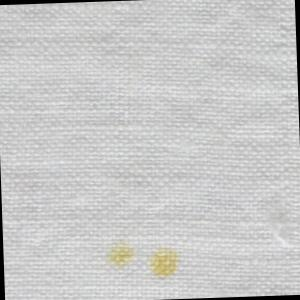Damage: (269, 213, 299, 250)
Stain: (98, 238, 191, 290)
